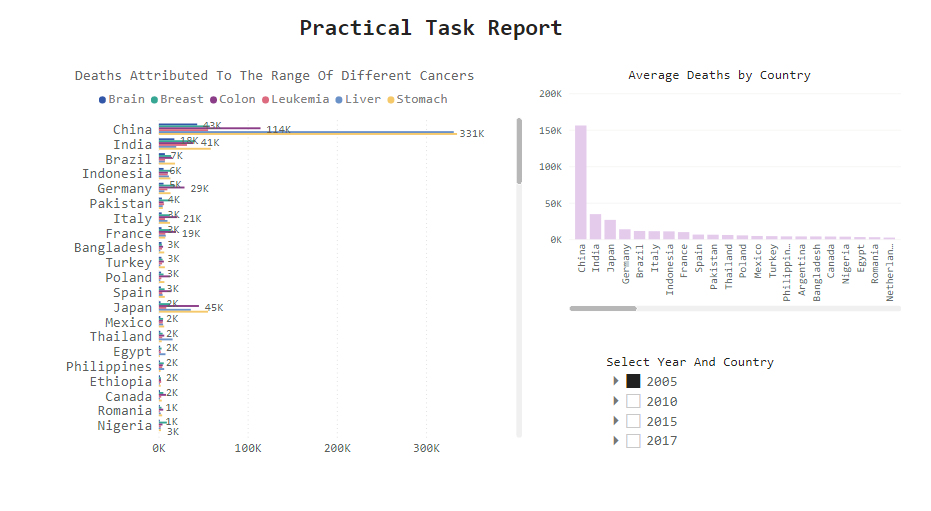

Layout of this report page (visuals, bound fields, positions):
{"tool":"powerbi","page":{"name":"Task Page 1 p.1","canvas":[1280,720],"ordinal":0},"visuals":[{"type":"slicer","fields":{"Values":["age_editied.Year","age_editied.Country"]},"box":[823.9,493.5,314.5,194.8],"z":1000},{"type":"clusteredColumnChart","fields":{"Y":["Sum(age_editied.Average Deaths by type)"],"Category":["age_editied.Country"]},"box":[737.5,96.6,518.8,347.5],"z":3000},{"type":"clusteredBarChart","title":"Deaths Attributed To The Range Of Different Cancers","fields":{"Y":["Sum(age_editied.type_death_edited.Brain)","Sum(age_editied.type_death_edited.Breast)","Sum(age_editied.type_death_edited.Colon)","Sum(age_editied.type_death_edited.Leukemia)","Sum(age_editied.type_death_edited.Liver)","Sum(age_editied.type_death_edited.Stomach)"],"Category":["age_editied.Country"]},"box":[20.2,96.7,704.1,552.6],"z":3500},{"type":"textbox","box":[378,18.8,427.1,51.9],"z":4000}]}

Visuals, with their boxes in screenshot pixels (x1, y1, x2, y2), scaled from the page's 1280x720 canvas onto the 931x511 screenshot:
slicer - age_editied.Year x age_editied.Country: bbox=(599, 350, 828, 489)
clusteredColumnChart - Sum(age_editied.Average Deaths by type) x age_editied.Country: bbox=(536, 69, 914, 315)
"Deaths Attributed To The Range Of Different Cancers" clusteredBarChart: bbox=(15, 69, 527, 461)
textbox: bbox=(275, 13, 586, 50)
